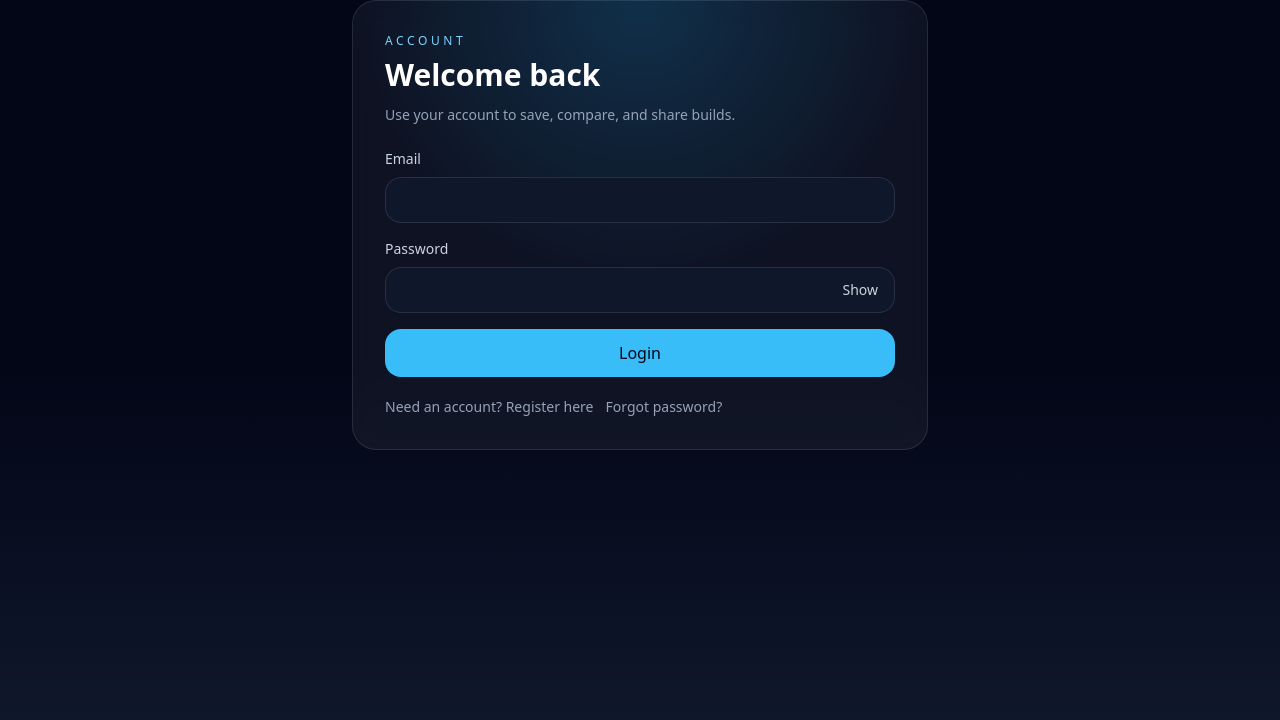
AuthPage › shows validation feedback for short passwords
Type "qa@example.com" into the field labelled "Email" at point(640, 200), box [385,177,895,223]
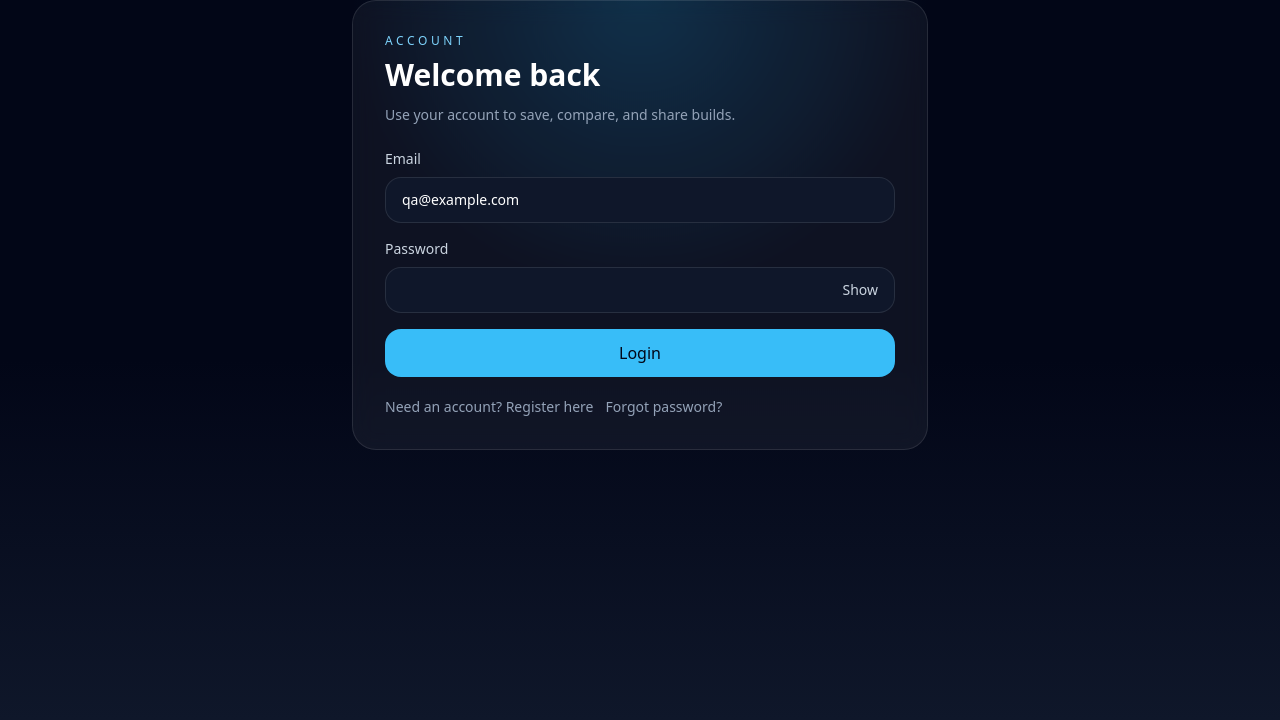
Type "123" into the password field labelled "Password Show" at point(606, 290), box [386,268,826,312]
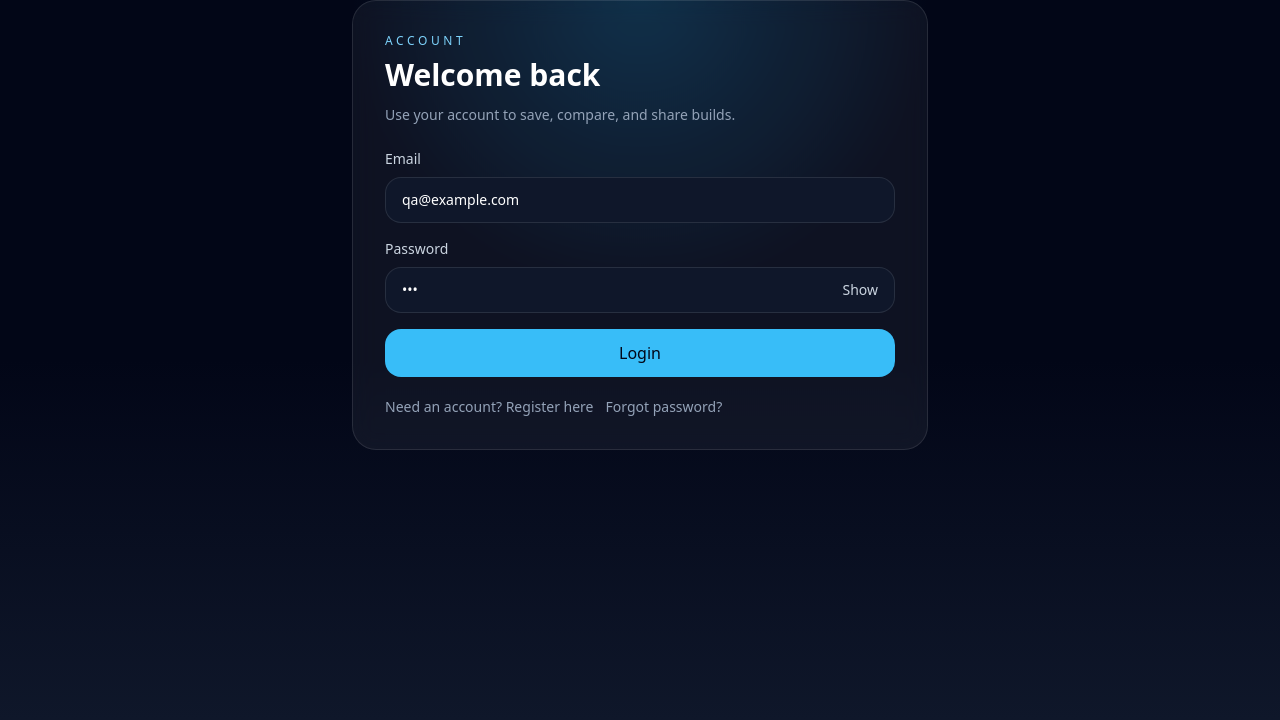
Click the button "Login" at point(640, 353), box [385,329,895,377]
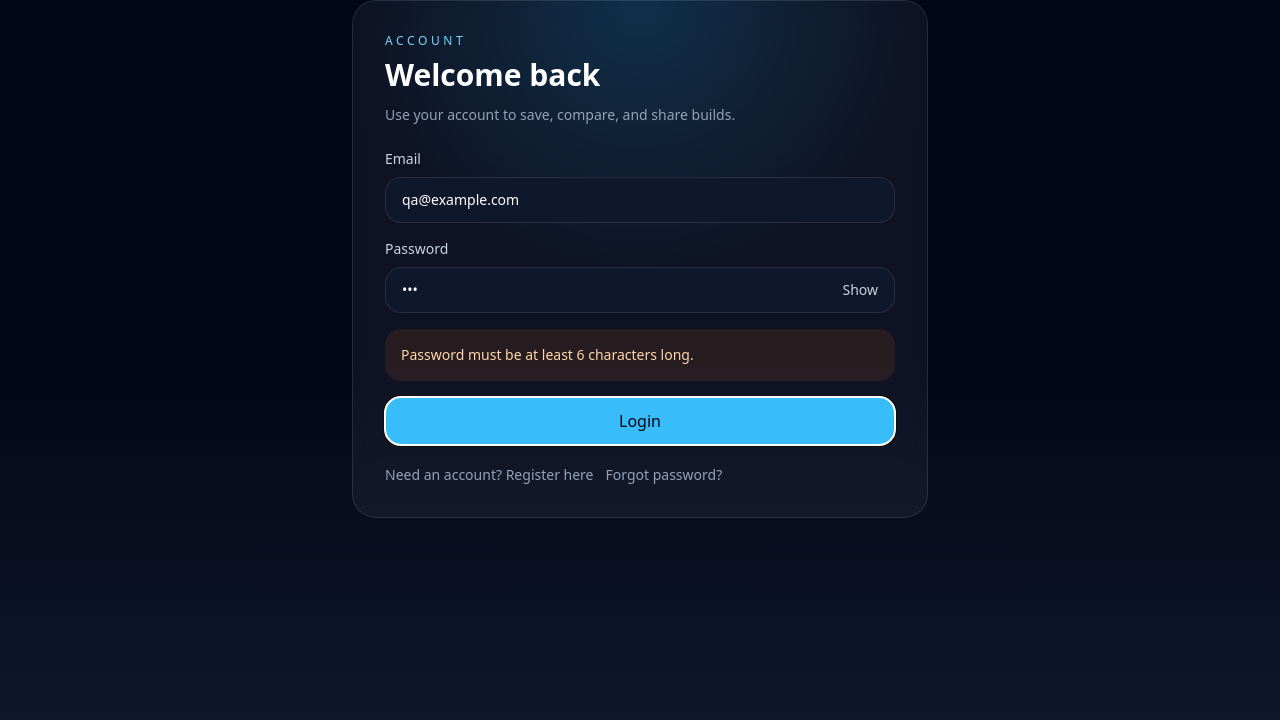
Now the text "Password must be at least 6 characters long." is shown, box [385,329,895,381]
